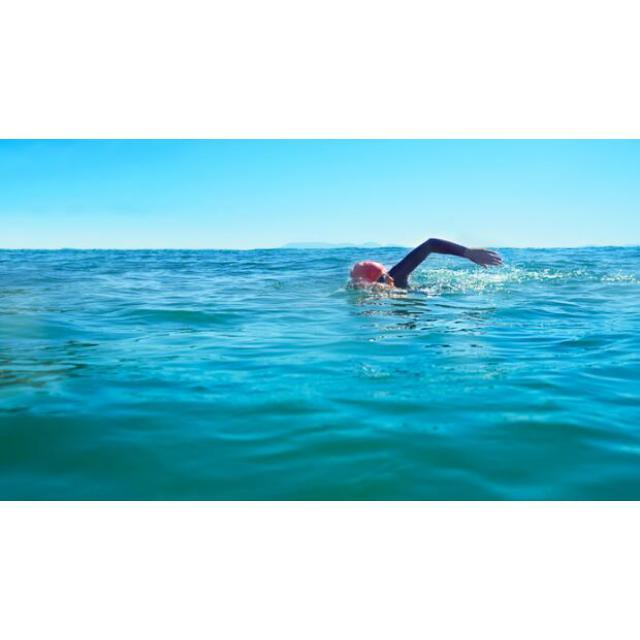human: (348, 236, 503, 295)
